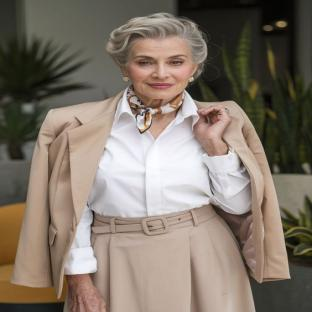Human: (12, 13, 289, 312)
